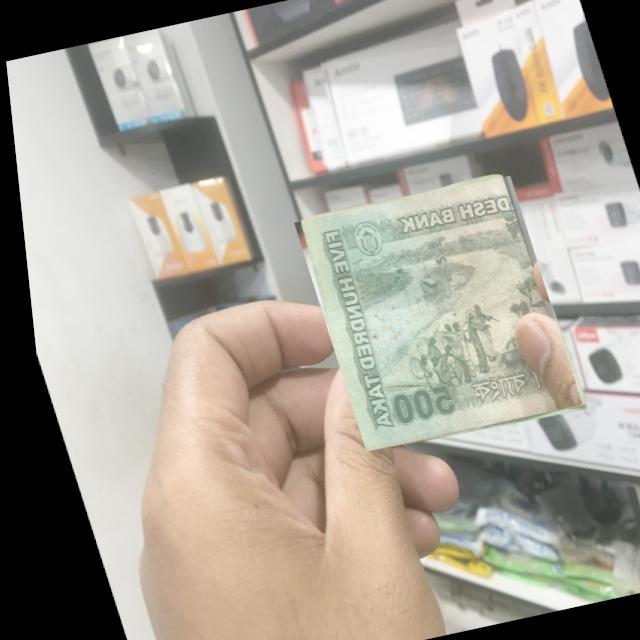Taka: (285, 176, 577, 450)
